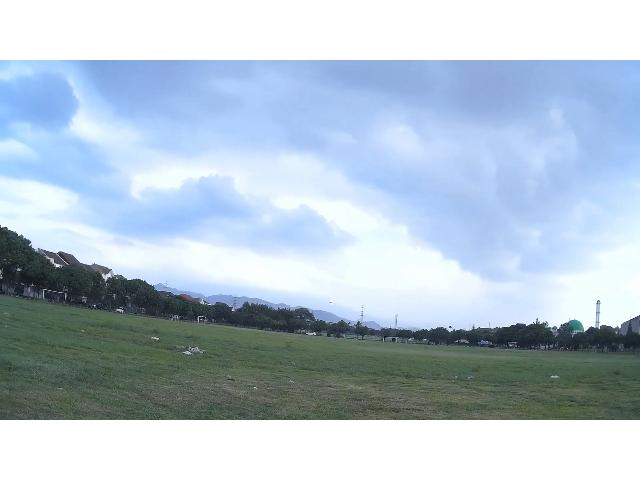Anti-Drone: (325, 298, 337, 307)
